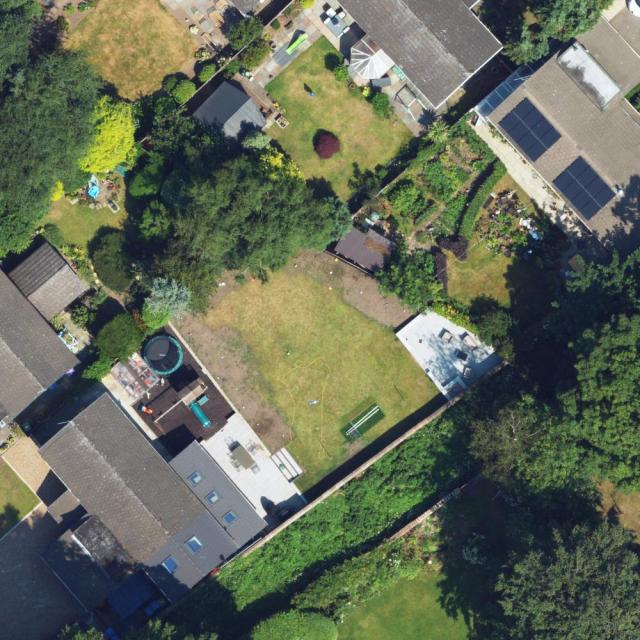roof: (32, 389, 270, 621), (472, 0, 640, 266), (335, 0, 506, 109), (0, 239, 91, 424), (182, 84, 274, 152)
skylight: (475, 60, 538, 119), (349, 33, 397, 81), (180, 534, 209, 557), (157, 554, 181, 575), (185, 466, 205, 488), (220, 508, 241, 526), (205, 487, 222, 509)
solar: (550, 156, 618, 223), (497, 97, 561, 163)
